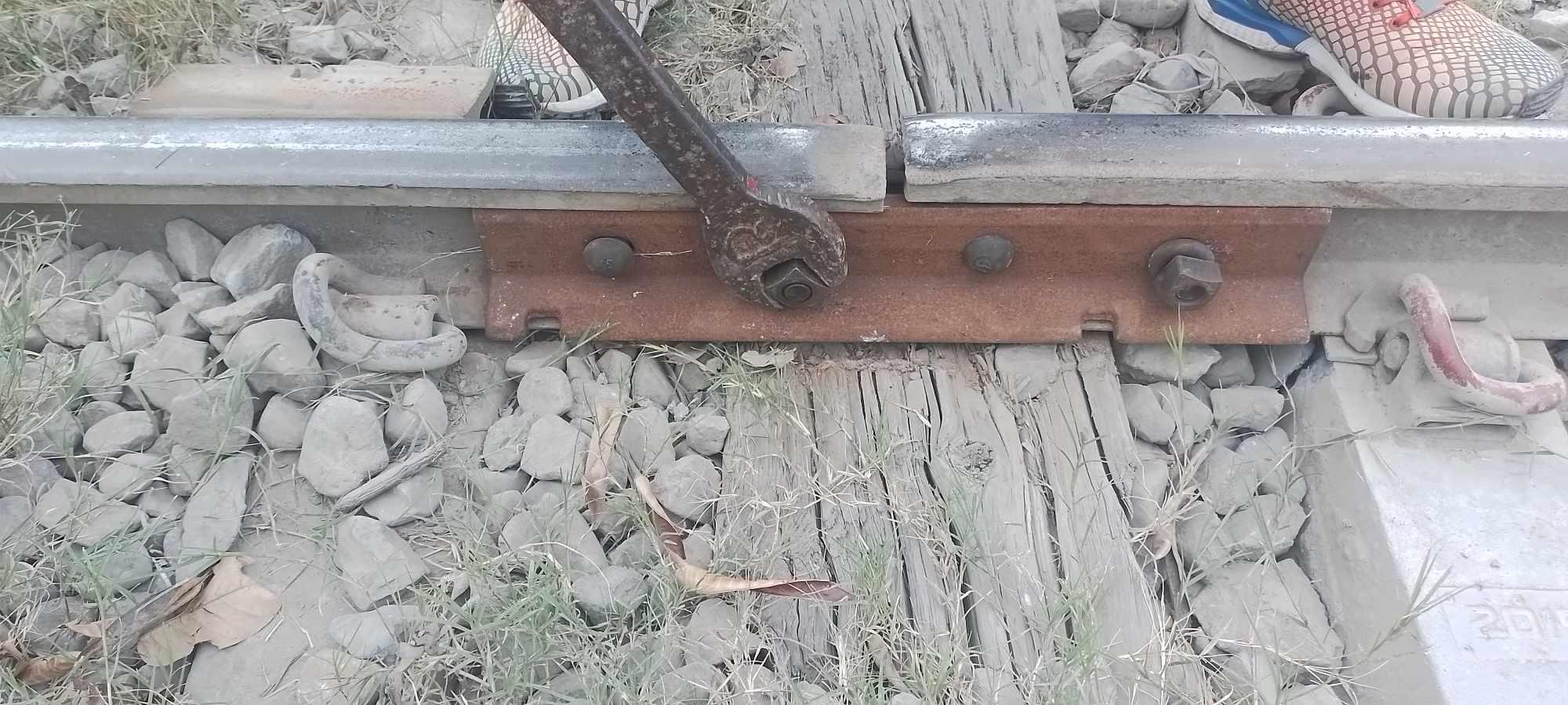railway-gap: (809, 97, 975, 240)
